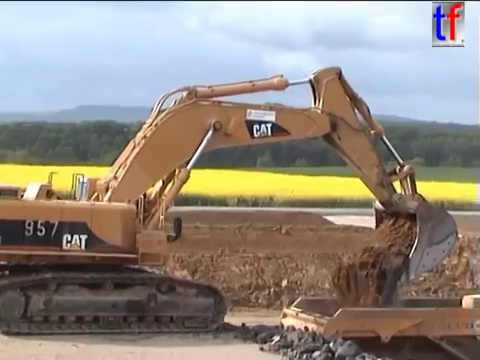excavator: (1, 61, 463, 339)
truck: (276, 291, 480, 360)
